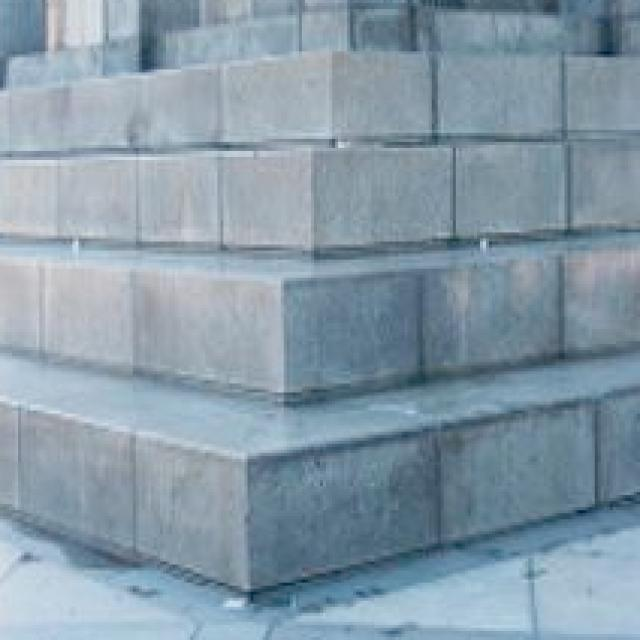upstair: (80, 50, 560, 370)
